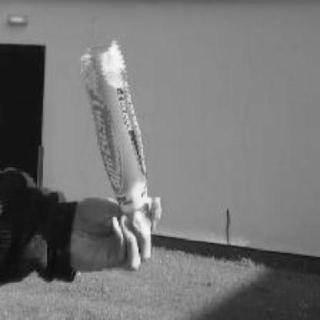other: (66, 33, 182, 223)
